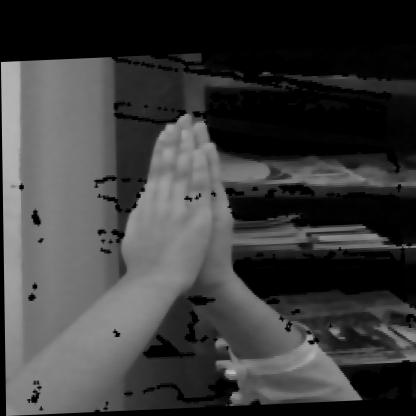namaste: (78, 104, 292, 359)
